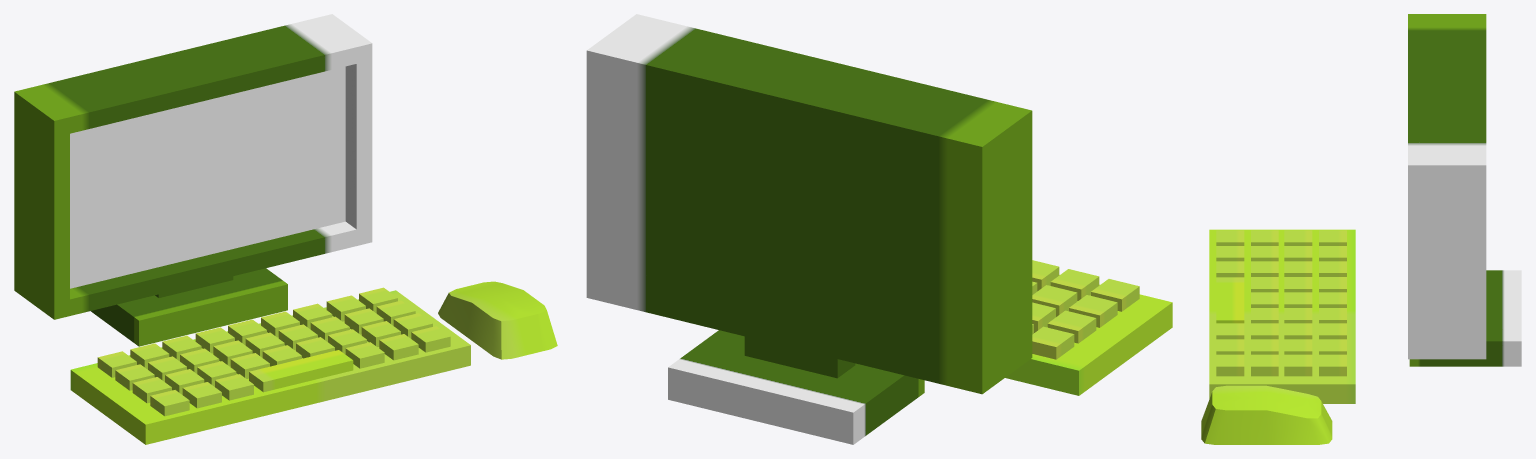
File: Office_Computer.fbx
The picture shows the model from 3 angles, left to right: view 1: azimuth 30°, elevation 25°; view 2: azimuth 150°, elevation 25°; view 3: azimuth 270°, elevation 25°; orthographic projection. The views are drawn at different scales.
Visible parts, largest first — view 1: Office_Computer; view 2: Office_Computer; view 3: Office_Computer.
Part boxes in pixels (x1,y1,x2,y2): Office_Computer: (14, 14, 557, 444); Office_Computer: (586, 14, 1172, 444); Office_Computer: (1201, 14, 1521, 444).
Size of the model in its own units: 93.51 by 53.51 by 64.47.
